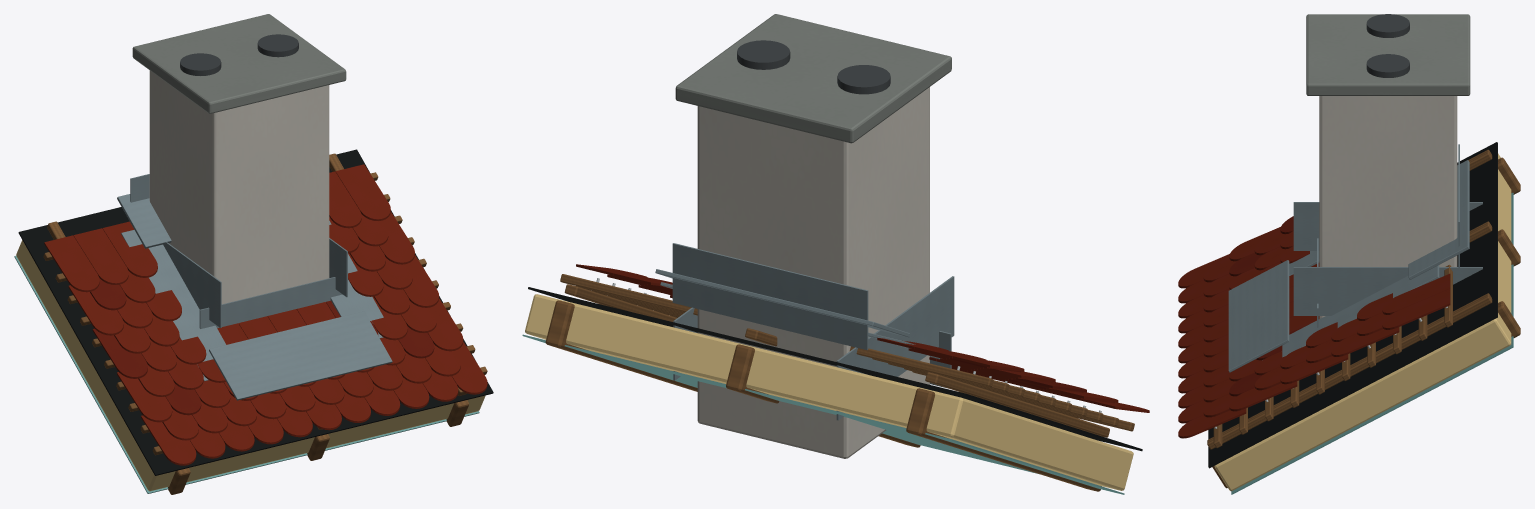
File: modell.glb
The picture shows the model from 3 angles, left to right: view 1: azimuth 30°, elevation 25°; view 2: azimuth 150°, elevation 25°; view 3: azimuth 270°, elevation 25°; orthographic projection. The views are drawn at different scales.
Visible parts, largest first — view 1: s08-deckziegel_deckung, s08-schornstein_, s08-vorderteil_deckung, s08-schornstein_.001, s08-zusatzebene_zusatzebene, s08-daemmung_daemmung, s08-seitenteil_deckung, s08-deckziegel_deckung.001, s08-rueckenteil_deckung, s08-lattung_lattung, s08-schornstein_.002, s08-luftdichtheit_luftdichtheit (+1 smaller); view 2: s08-schornstein_, s08-daemmung_daemmung, s08-schornstein_.001, s08-rueckenteil_deckung, s08-lattung_lattung, s08-seitenteil_deckung, s08-sparren_tragwerk, s08-deckziegel_deckung, s08-luftdichtheit_luftdichtheit, s08-zusatzebene_zusatzebene, s08-schornstein_.002; view 3: s08-schornstein_, s08-deckziegel_deckung, s08-schornstein_.001, s08-daemmung_daemmung, s08-zusatzebene_zusatzebene, s08-seitenteil_deckung, s08-vorderteil_deckung, s08-lattung_lattung, s08-rueckenteil_deckung, s08-schornstein_.002, s08-luftdichtheit_luftdichtheit, s08-sparren_tragwerk (+1 smaller).
Part boxes in pixels (x1=…): s08-deckziegel_deckung: x1=44, y1=164, x2=487, y2=465; s08-schornstein_: x1=149, y1=70, x2=329, y2=304; s08-vorderteil_deckung: x1=199, y1=277, x2=392, y2=400; s08-schornstein_.001: x1=132, y1=14, x2=346, y2=113; s08-zusatzebene_zusatzebene: x1=18, y1=149, x2=493, y2=475; s08-daemmung_daemmung: x1=16, y1=240, x2=485, y2=491; s08-seitenteil_deckung: x1=121, y1=221, x2=383, y2=381; s08-deckziegel_deckung.001: x1=90, y1=278, x2=434, y2=415; s08-rueckenteil_deckung: x1=117, y1=174, x2=171, y2=248; s08-lattung_lattung: x1=43, y1=153, x2=487, y2=455; s08-schornstein_.002: x1=180, y1=34, x2=298, y2=75; s08-luftdichtheit_luftdichtheit: x1=14, y1=256, x2=479, y2=493; s08-schornstein_: x1=697, y1=87, x2=929, y2=458; s08-daemmung_daemmung: x1=525, y1=294, x2=1133, y2=490; s08-schornstein_.001: x1=675, y1=14, x2=951, y2=143; s08-rueckenteil_deckung: x1=655, y1=243, x2=909, y2=350; s08-lattung_lattung: x1=560, y1=274, x2=1134, y2=437; s08-seitenteil_deckung: x1=660, y1=276, x2=954, y2=420; s08-sparren_tragwerk: x1=545, y1=300, x2=1101, y2=491; s08-deckziegel_deckung: x1=576, y1=264, x2=1149, y2=412; s08-luftdichtheit_luftdichtheit: x1=522, y1=334, x2=1124, y2=494; s08-zusatzebene_zusatzebene: x1=528, y1=287, x2=1142, y2=451; s08-schornstein_.002: x1=737, y1=40, x2=890, y2=94; s08-schornstein_: x1=1319, y1=96, x2=1457, y2=318; s08-deckziegel_deckung: x1=1178, y1=227, x2=1450, y2=438; s08-schornstein_.001: x1=1306, y1=14, x2=1470, y2=95; s08-daemmung_daemmung: x1=1214, y1=153, x2=1511, y2=491; s08-zusatzebene_zusatzebene: x1=1208, y1=142, x2=1497, y2=468; s08-seitenteil_deckung: x1=1262, y1=202, x2=1482, y2=360; s08-vorderteil_deckung: x1=1228, y1=238, x2=1318, y2=372; s08-lattung_lattung: x1=1207, y1=149, x2=1492, y2=449; s08-rueckenteil_deckung: x1=1408, y1=144, x2=1469, y2=279; s08-schornstein_.002: x1=1366, y1=14, x2=1409, y2=77; s08-luftdichtheit_luftdichtheit: x1=1231, y1=192, x2=1513, y2=494; s08-sparren_tragwerk: x1=1212, y1=157, x2=1520, y2=488.
Size of the model in its own units: 2.09 by 2.08 by 1.74.
Materials: 11 (6 with a texture image).
